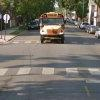Crosswalk: (5, 56, 97, 93)
